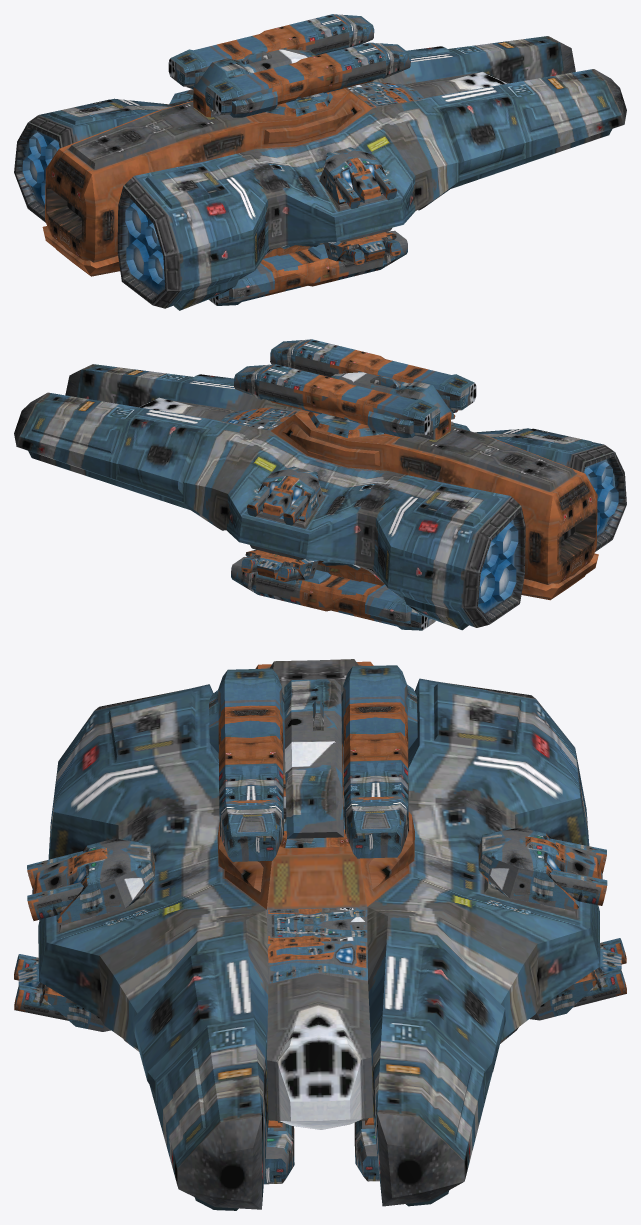
The model's file is fighter_a.FBX.
3 views of the same model, one above another, from view 1: azimuth 30°, elevation 25°; view 2: azimuth 150°, elevation 25°; view 3: azimuth 270°, elevation 25° (orthographic). The views are drawn at different scales.
Visible parts, largest first — view 1: group1, group16, group12, group14, group11, group15, group2, group19, group17; view 2: group1, group16, group12, group14, group11, group115, group112, group2, group13, group117; view 3: group1, group16, group12, group11, group2, group115, group15, group14, group112, group19, group116, group18 (+2 smaller).
Part boxes in pixels (x1,y1,x2,y2): group1: (14, 36, 626, 308); group16: (22, 46, 612, 310); group12: (168, 14, 410, 117); group14: (209, 230, 407, 305); group11: (193, 49, 335, 117); group15: (319, 147, 386, 204); group2: (347, 81, 423, 107); group19: (324, 231, 396, 261); group17: (336, 178, 360, 208); group1: (14, 364, 626, 627); group16: (28, 374, 618, 630); group12: (234, 339, 476, 437); group14: (231, 557, 435, 630); group11: (308, 372, 451, 439); group115: (258, 466, 324, 521); group112: (245, 549, 318, 580); group2: (220, 407, 298, 430); group13: (316, 564, 384, 585); group117: (283, 495, 307, 525); group1: (38, 661, 600, 1209); group16: (59, 659, 576, 1210); group12: (209, 665, 417, 861); group11: (280, 679, 349, 848); group2: (266, 907, 367, 983); group115: (478, 827, 602, 911); group15: (32, 838, 155, 924); group14: (264, 1117, 379, 1184); group112: (530, 948, 621, 1020); group19: (18, 963, 110, 1031); group116: (550, 869, 607, 905); group18: (27, 882, 83, 920).
Bounding box in the file's own units: 5936 × 2410 × 3439.
Materials: 1 (1 with a texture image).
